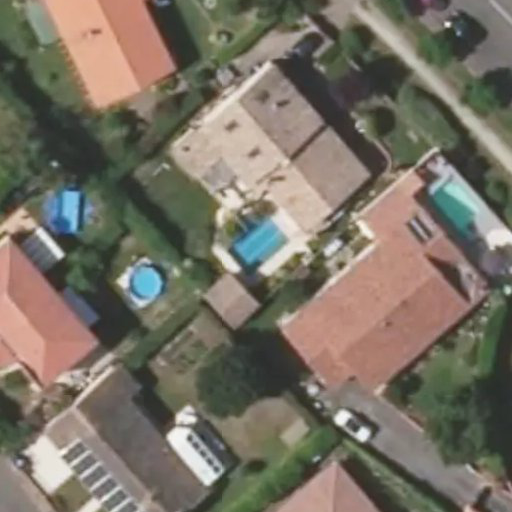pool: (207, 237, 294, 239)
